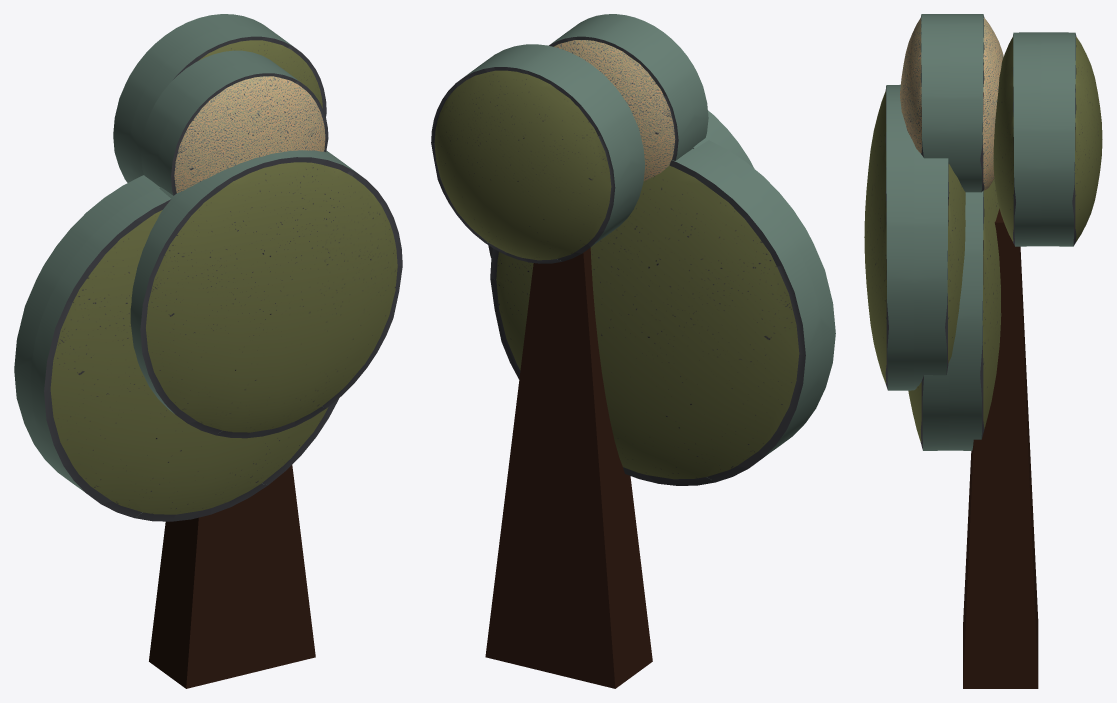
File: Tree 09.fbx
The picture shows the model from 3 angles, left to right: view 1: azimuth 30°, elevation 25°; view 2: azimuth 150°, elevation 25°; view 3: azimuth 270°, elevation 25°; orthographic projection.
Parts seen in each view (by area): view 1: tree_07_03, tree_07_00, tree_07_trunk, tree_07_02, tree_07_01; view 2: tree_07_00, tree_07_trunk, tree_07_01, tree_07_02, tree_07_03; view 3: tree_07_trunk, tree_07_03, tree_07_01, tree_07_02, tree_07_00.
Boxes of the visible parts, x1,y1,x2,y2 form: tree_07_03: (130,150,402,438); tree_07_00: (14,175,338,521); tree_07_trunk: (149,465,315,688); tree_07_02: (141,50,328,195); tree_07_01: (113,14,326,182); tree_07_00: (490,140,835,485); tree_07_trunk: (485,247,652,688); tree_07_01: (431,44,645,263); tree_07_02: (549,14,708,180); tree_07_03: (488,110,754,257); tree_07_trunk: (963,208,1038,688); tree_07_03: (864,84,965,390); tree_07_01: (993,32,1102,246); tree_07_02: (900,14,1003,192); tree_07_00: (908,179,1001,450).
Size of the model in its own units: 12.96 by 22.43 by 7.76.
